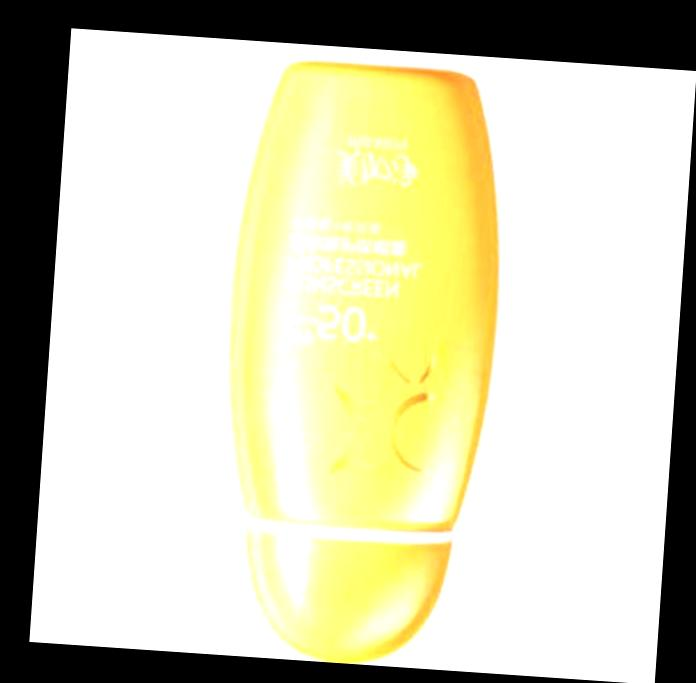cosmetic: (203, 53, 512, 671)
